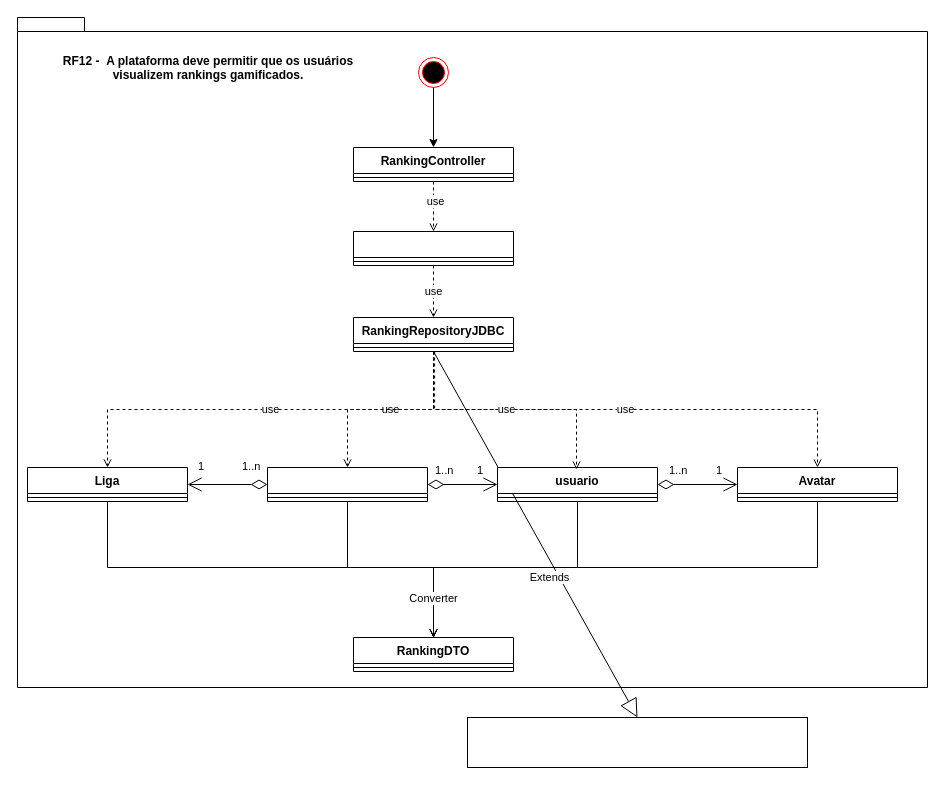
Some shapes in this 945 by 785 pixel diagram are drawn without their labels. The box of each missing label's shape, as (x1, y1, x2, y2) in pixels:
Palpite: (266, 466, 428, 502)
RankingService: (352, 230, 514, 266)
«interface» org.springframework.data.jpa.repository.JpaRepository: (466, 716, 808, 768)
